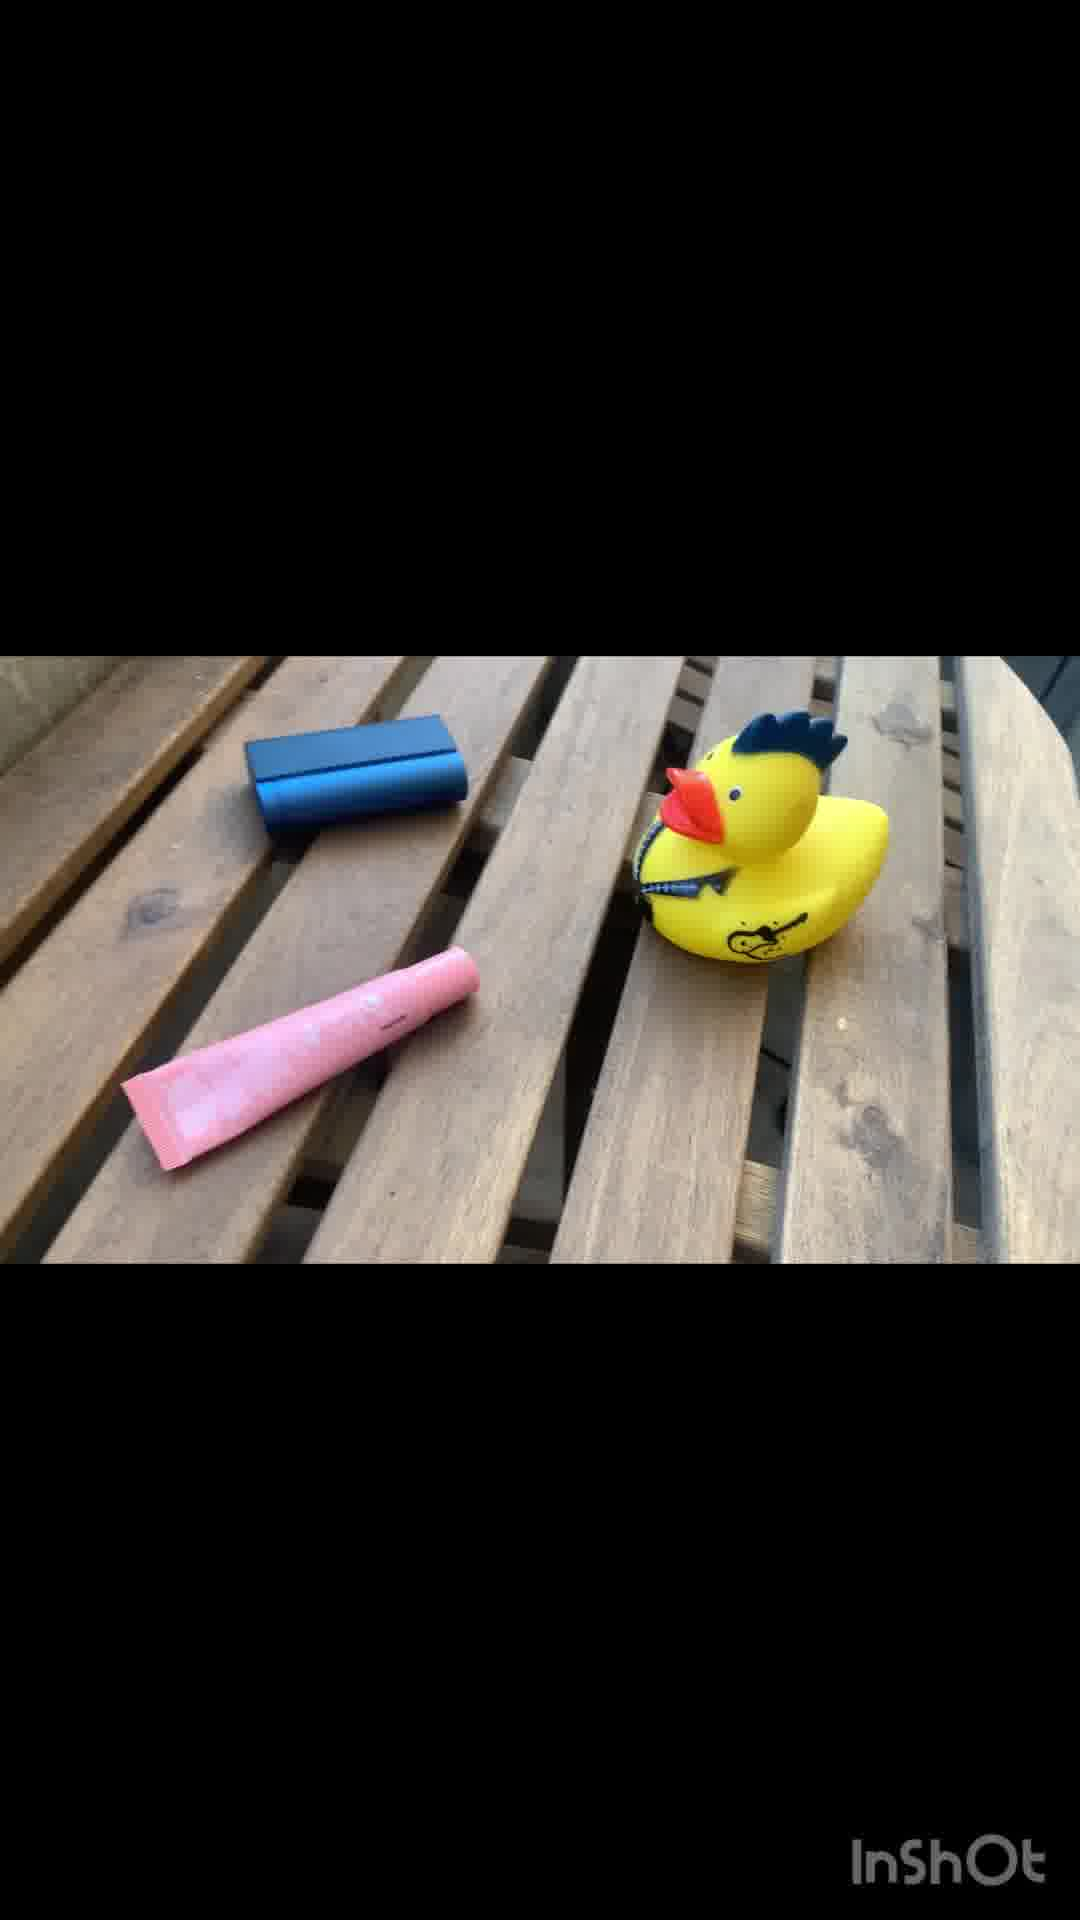duck: (636, 721, 910, 963)
glo: (228, 705, 480, 836)
lip balm: (123, 945, 498, 1167)
